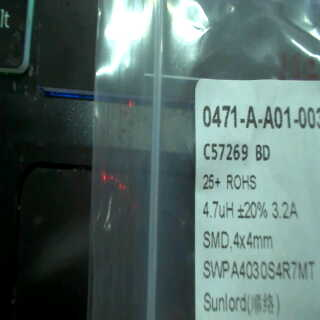4.7uH: (196, 197, 235, 223)
